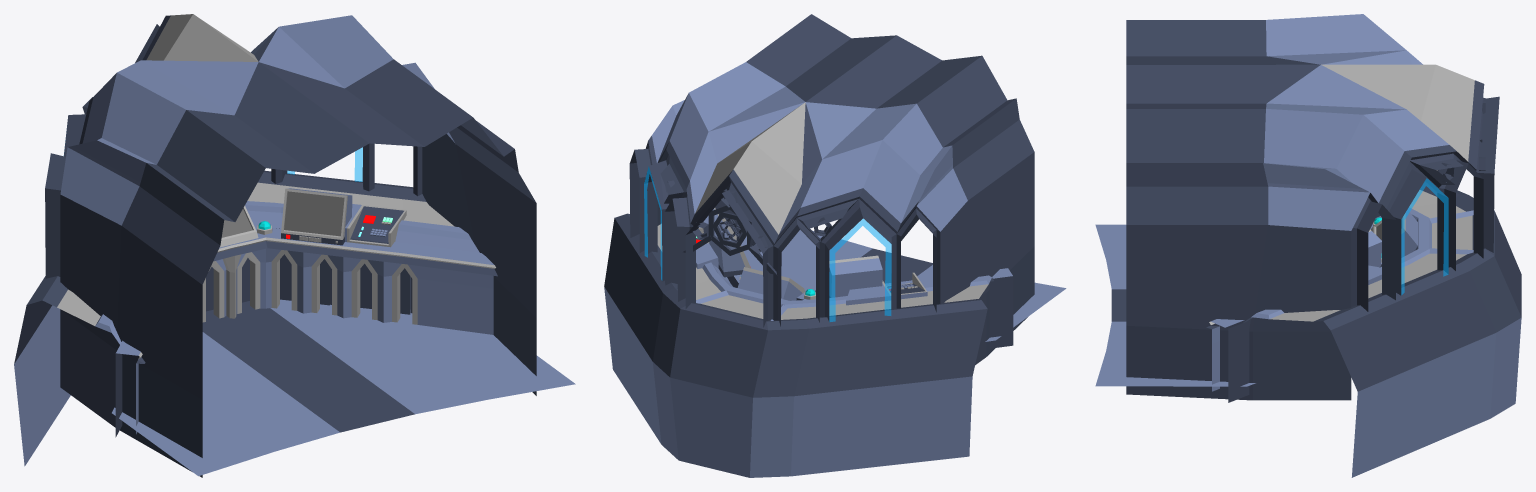
Rendered from spaceship2.fbx.
3 views of the same model, side by side, from view 1: azimuth 30°, elevation 25°; view 2: azimuth 150°, elevation 25°; view 3: azimuth 270°, elevation 25° (orthographic). The views are drawn at different scales.
Visible parts, largest first — view 1: spaceship_mesh1; view 2: spaceship_mesh1; view 3: spaceship_mesh1.
Part boxes in pixels (x1,y1,x2,y2): spaceship_mesh1: (14, 14, 575, 477); spaceship_mesh1: (604, 14, 1066, 477); spaceship_mesh1: (1095, 14, 1521, 477).
Size of the model in its own units: 6.9 by 5.31 by 6.4.
